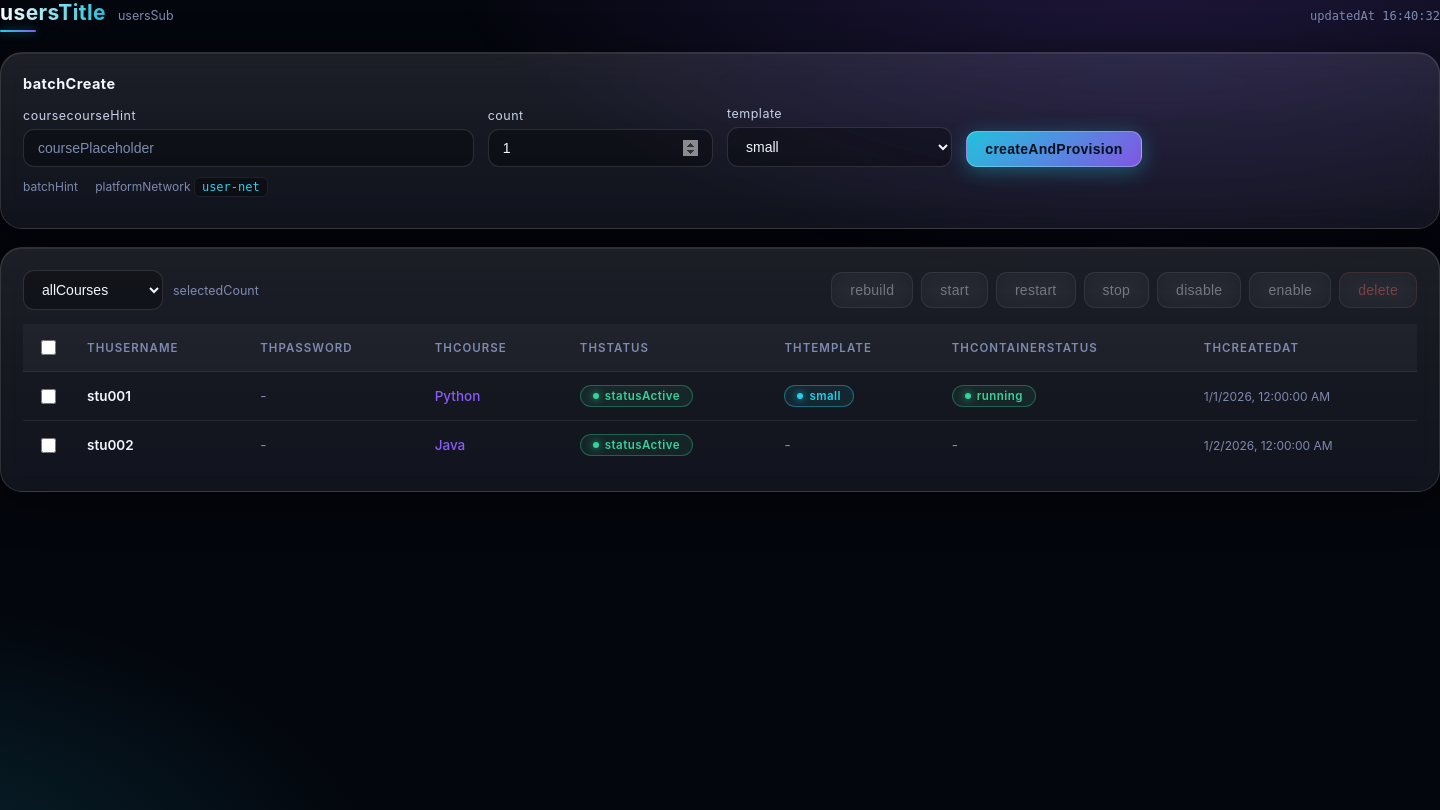
Test: Users › shows template details including env vars and memory sizes
Click the text with class "tpl": x=819, y=396 left=784, top=385, right=854, bottom=407
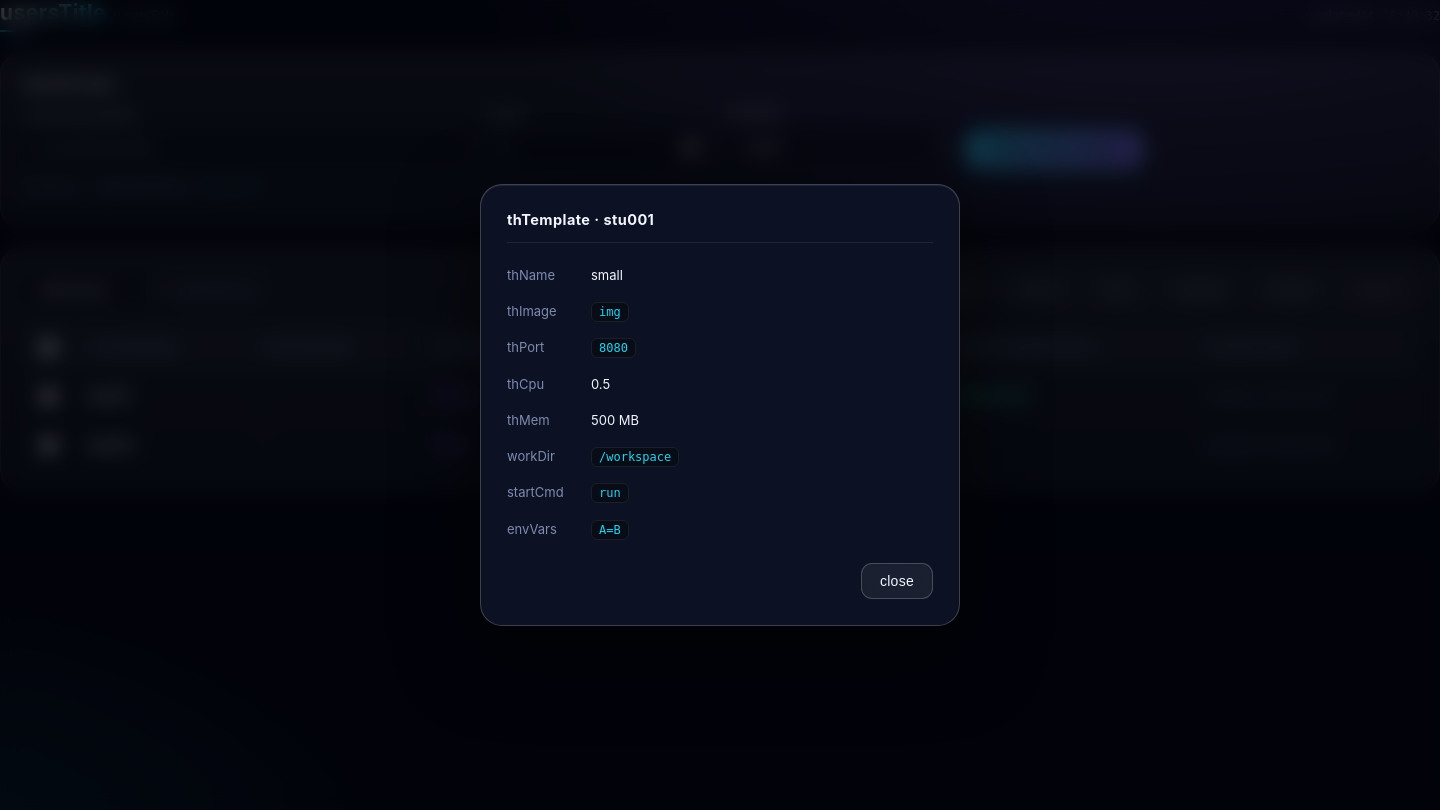
expect the element with class "modal-mask" is shown: met
expect the text "A=B" is shown: met, box left=591, top=520, right=629, bottom=540
expect the text "500 MB" is shown: met, box left=591, top=409, right=639, bottom=431
